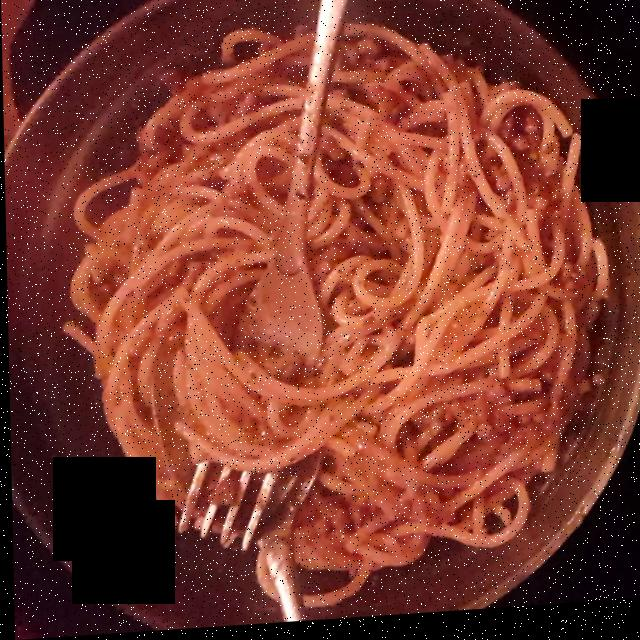pasta-spaghetti: (90, 39, 572, 571)
